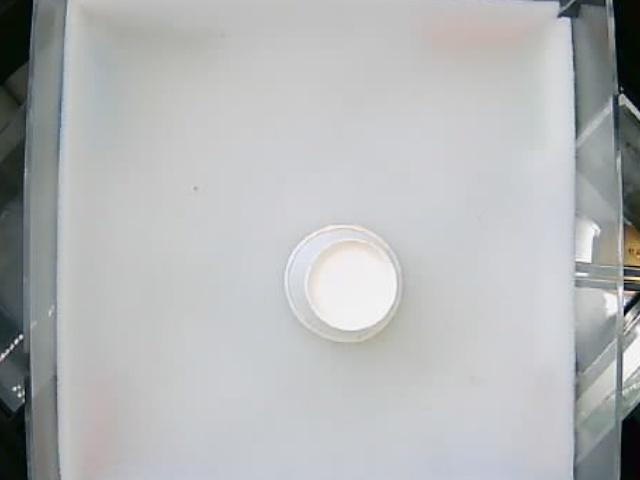Cup: (282, 220, 405, 344)
